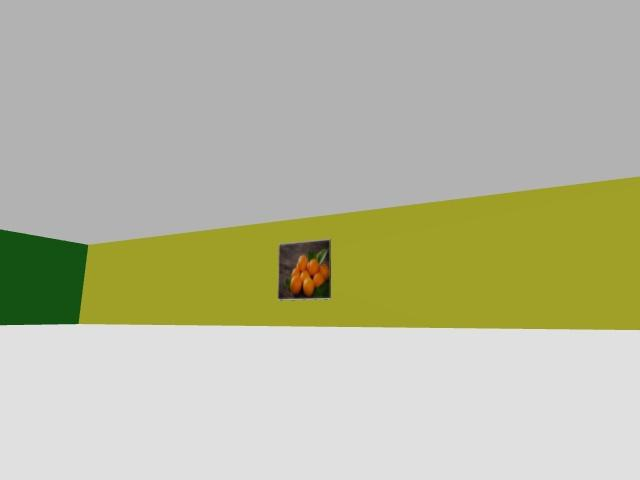orange: (303, 277, 314, 296), (290, 276, 301, 294), (296, 255, 307, 273), (307, 258, 318, 276), (319, 263, 329, 280), (313, 272, 324, 287), (300, 270, 310, 283), (292, 266, 299, 277)
